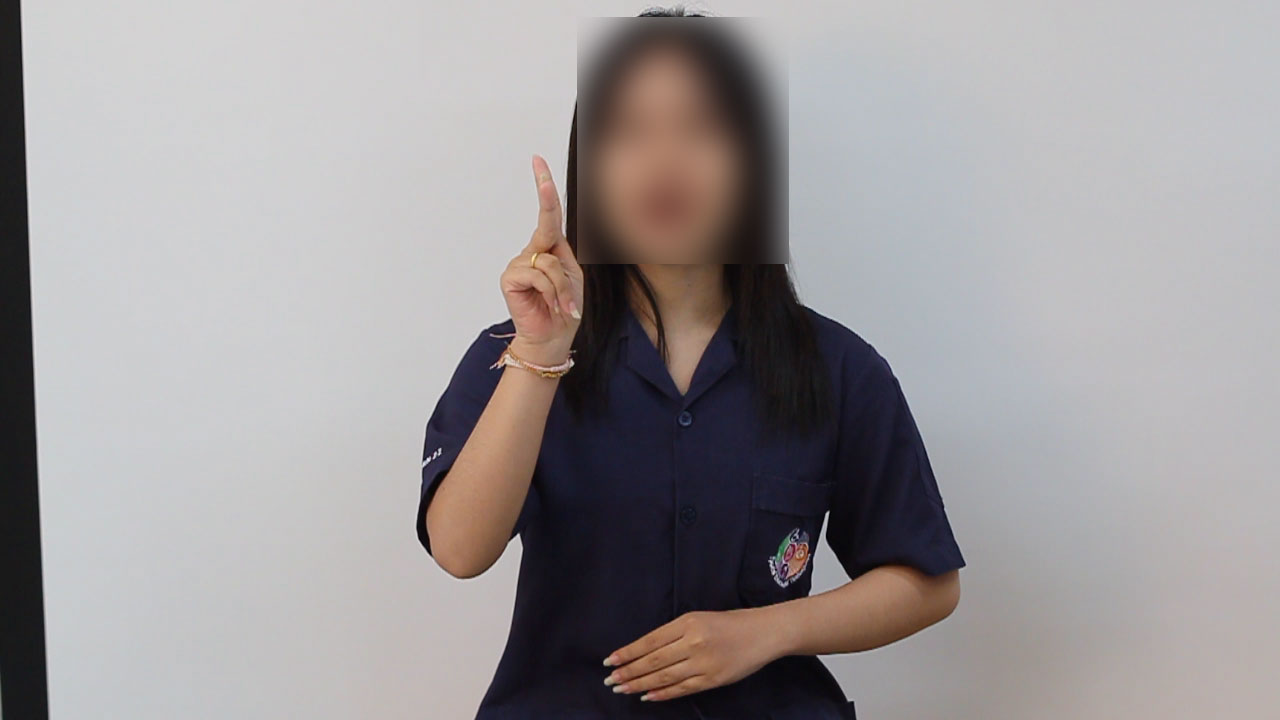ko: (427, 146, 616, 382)
